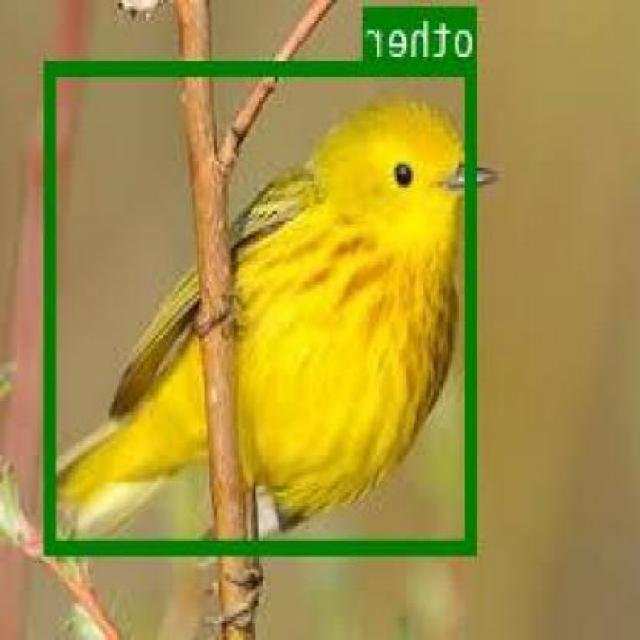other: (48, 58, 478, 550)
